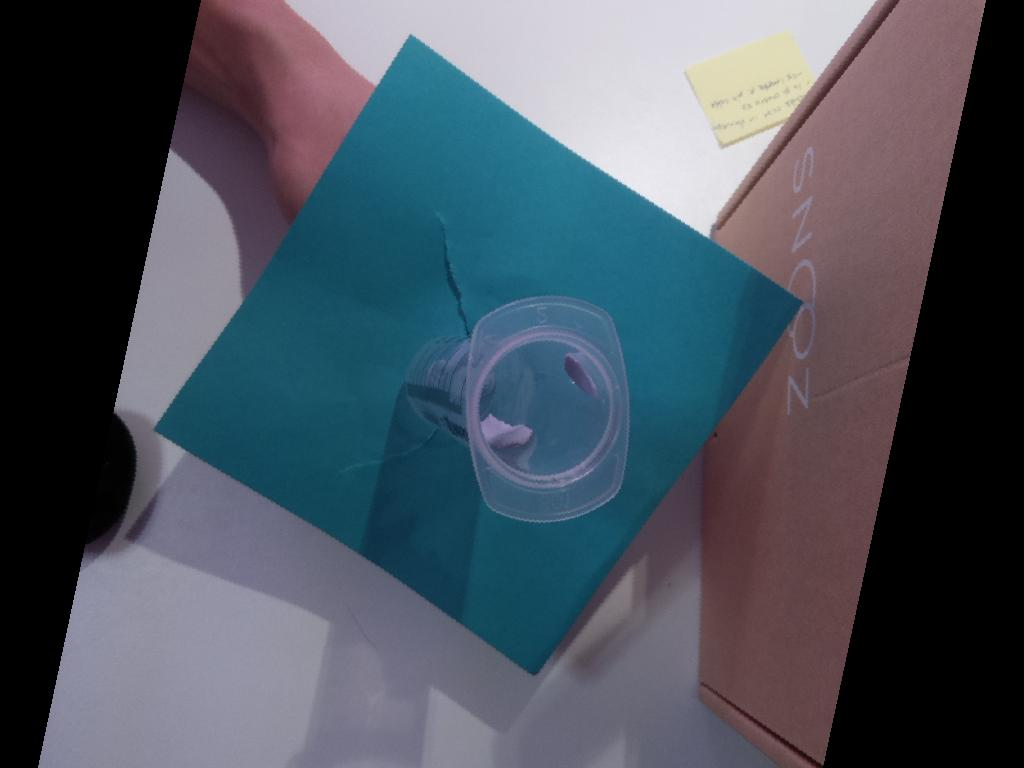dirty: (464, 294, 630, 521)
